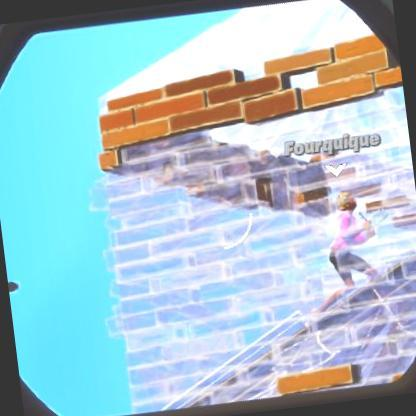person: (327, 188, 372, 302)
